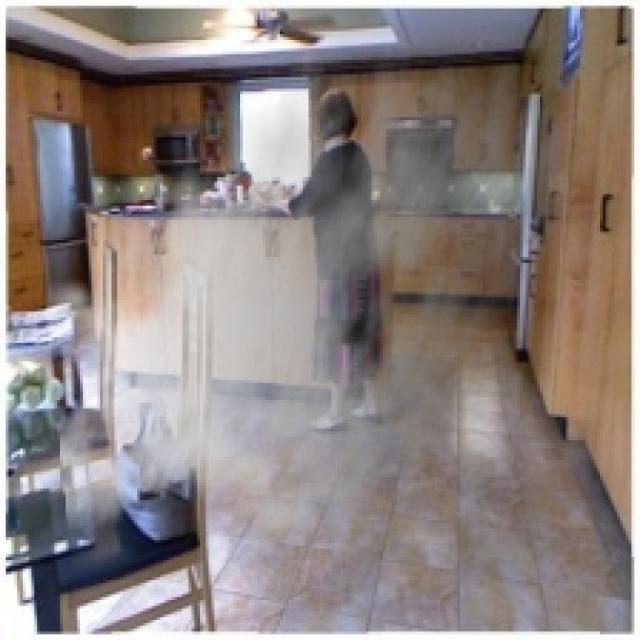Smoke: (42, 2, 572, 568)
